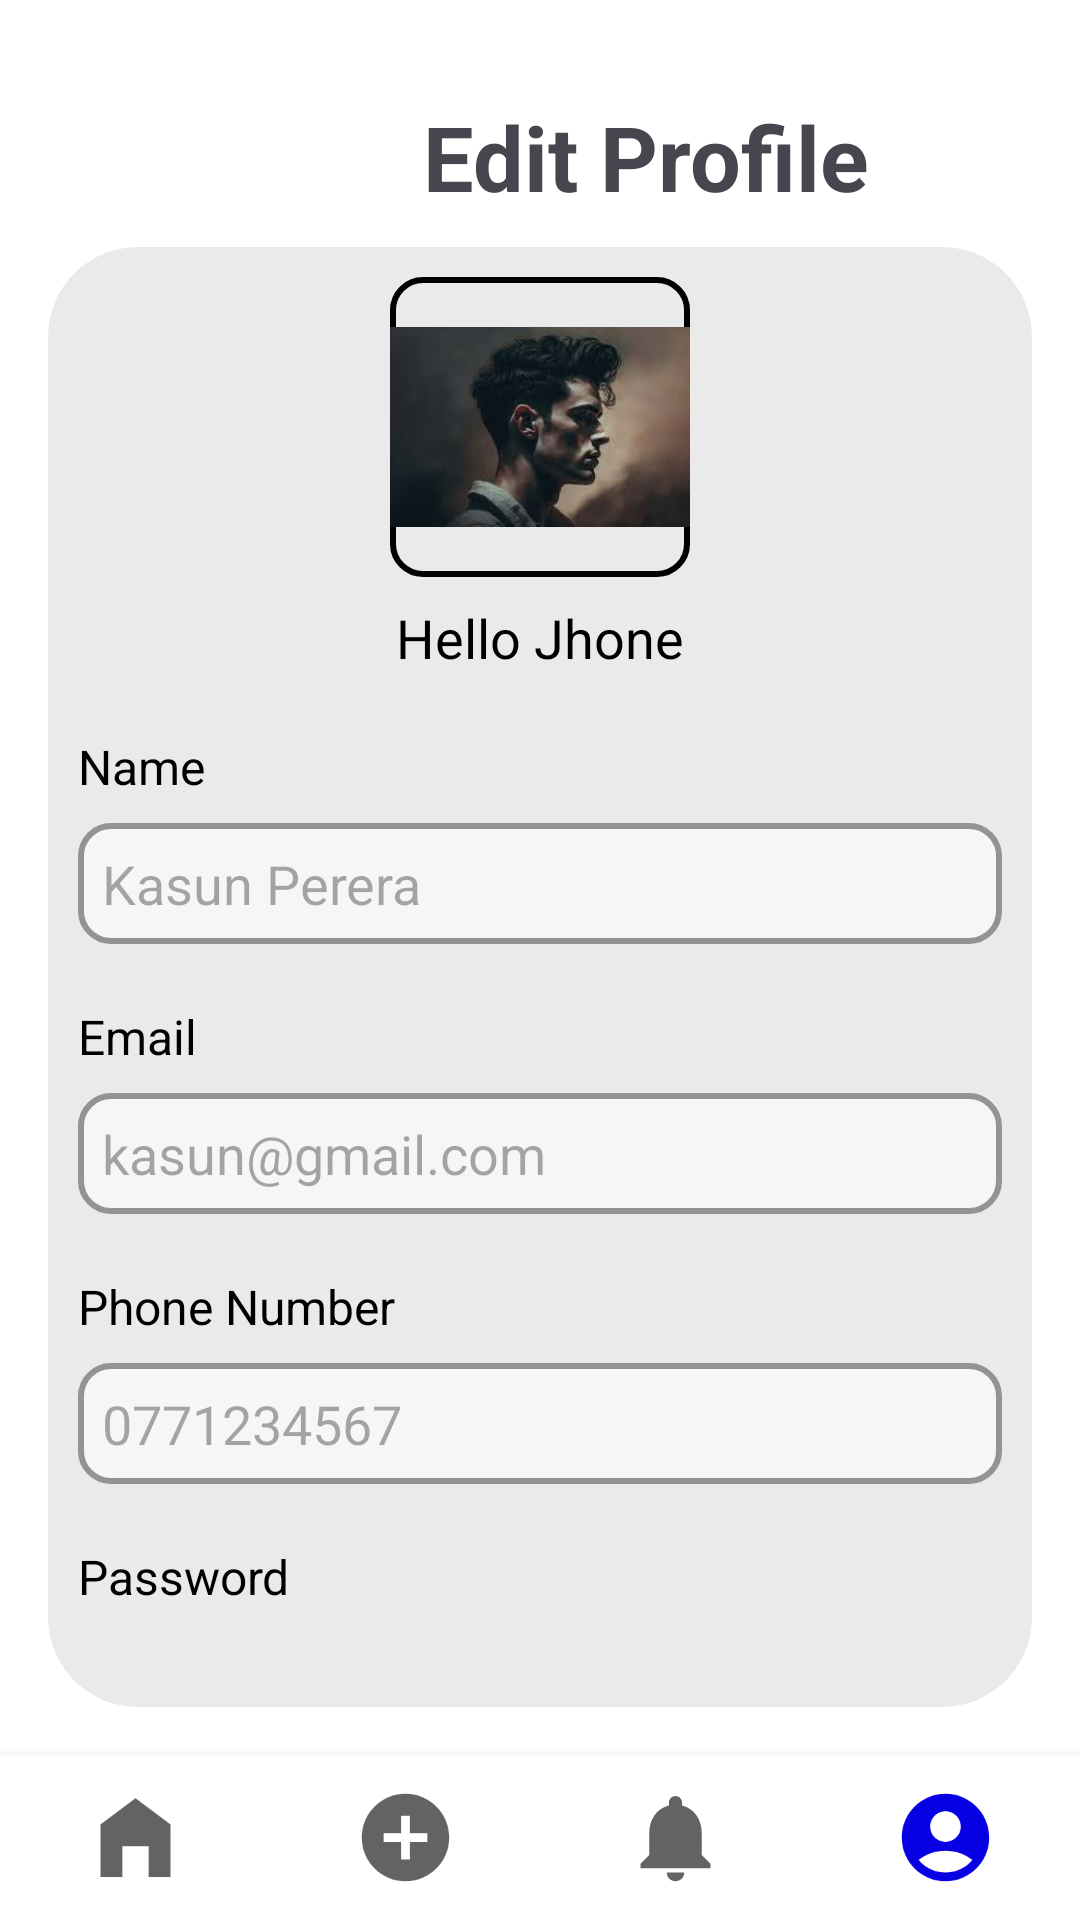

Named icons in this screenshot (1080x1920) and their centers, (x,y):
account circle: (945,1837)
add circle: (405,1837)
home: (135,1837)
man: (540,427)
notifications: (675,1839)
